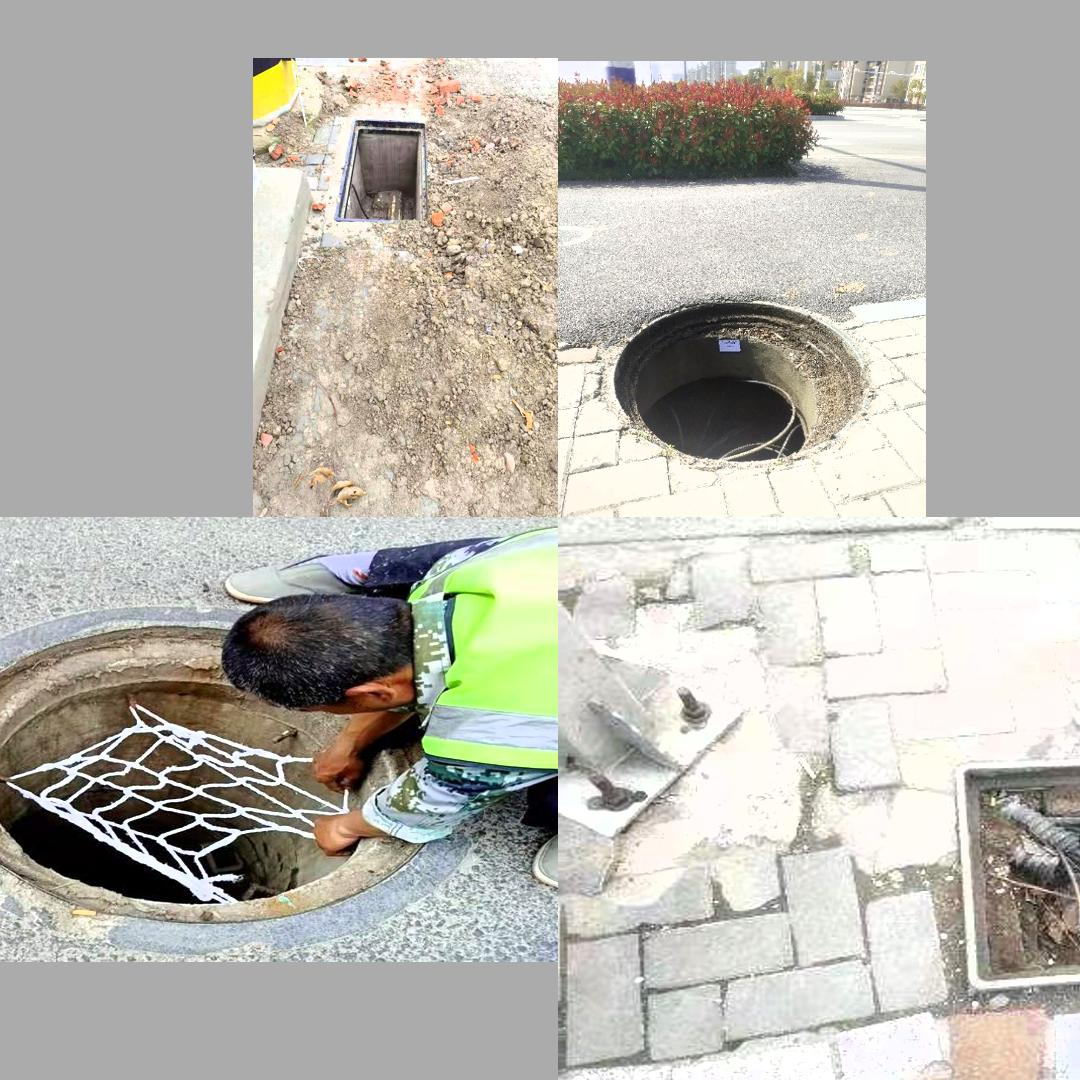lose: (0, 609, 456, 932), (605, 298, 874, 469), (922, 735, 1080, 1022), (332, 116, 434, 228)
